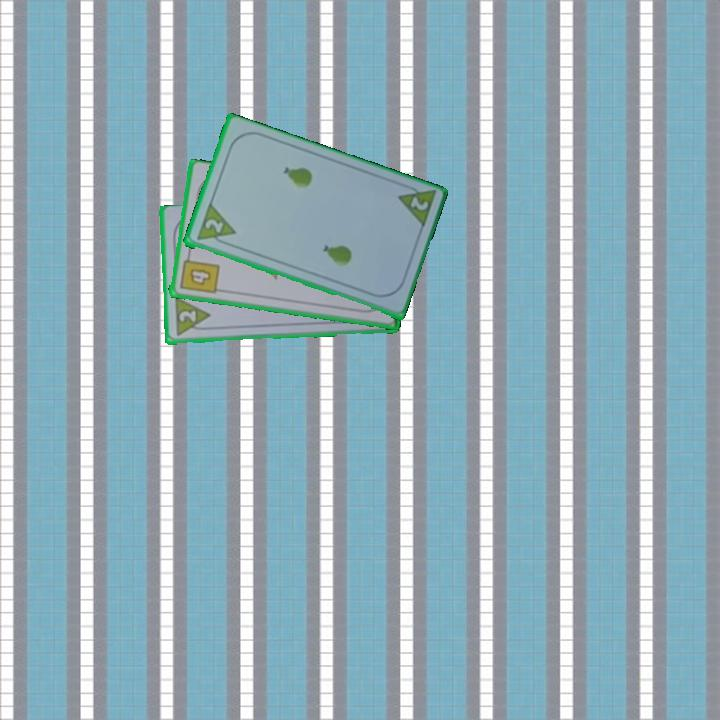2p: (393, 180, 438, 232), (201, 215, 226, 236), (175, 307, 199, 325)
4b: (176, 250, 221, 297)
